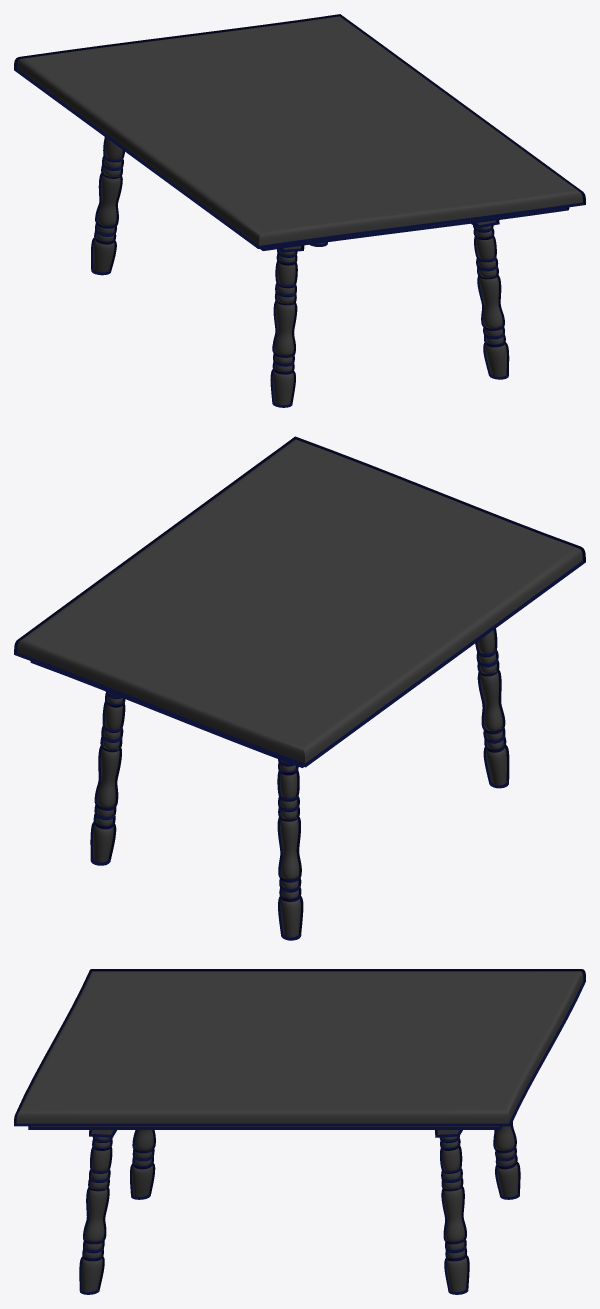
3 renders of one model, top to bottom at view 1: azimuth 30°, elevation 25°; view 2: azimuth 150°, elevation 25°; view 3: azimuth 270°, elevation 25°, orthographic. The views are drawn at different scales.
Parts seen in each view (by area): view 1: Slide table; view 2: Slide table; view 3: Slide table.
Part boxes in pixels (x1=…): Slide table: x1=14, y1=14, x2=585, y2=407; Slide table: x1=14, y1=436, x2=585, y2=940; Slide table: x1=14, y1=969, x2=585, y2=1294.
Bounding box in the file's own units: 0.942 × 0.6209 × 1.57.
